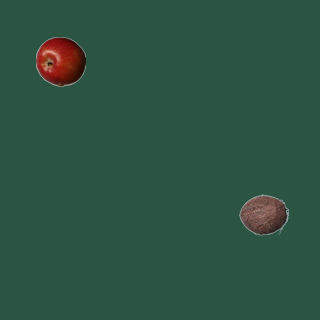Apple Braeburn: (35, 36, 85, 86)
Cocos: (238, 189, 288, 239)
